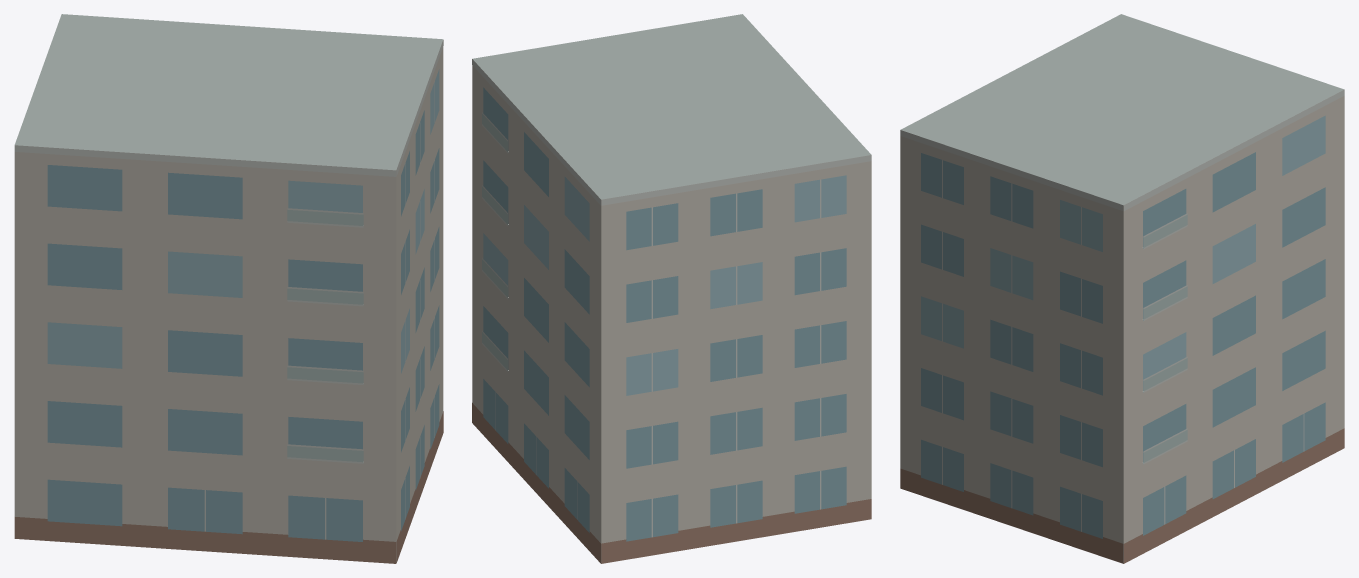
Rendered from survey-upis-32975618.glb.
3 renders of one model, left to right at view 1: azimuth 30°, elevation 25°; view 2: azimuth 150°, elevation 25°; view 3: azimuth 270°, elevation 25°, orthographic. The views are drawn at different scales.
Visible parts, largest first — view 1: survey-upis-32975618.tmp; view 2: survey-upis-32975618.tmp; view 3: survey-upis-32975618.tmp.
Boxes of the visible parts, x1,y1,x2,y2 form: survey-upis-32975618.tmp: [14, 14, 443, 563]; survey-upis-32975618.tmp: [472, 14, 871, 563]; survey-upis-32975618.tmp: [900, 14, 1344, 563].
Bounding box in the file's own units: 16.6 × 14.5 × 16.29.
